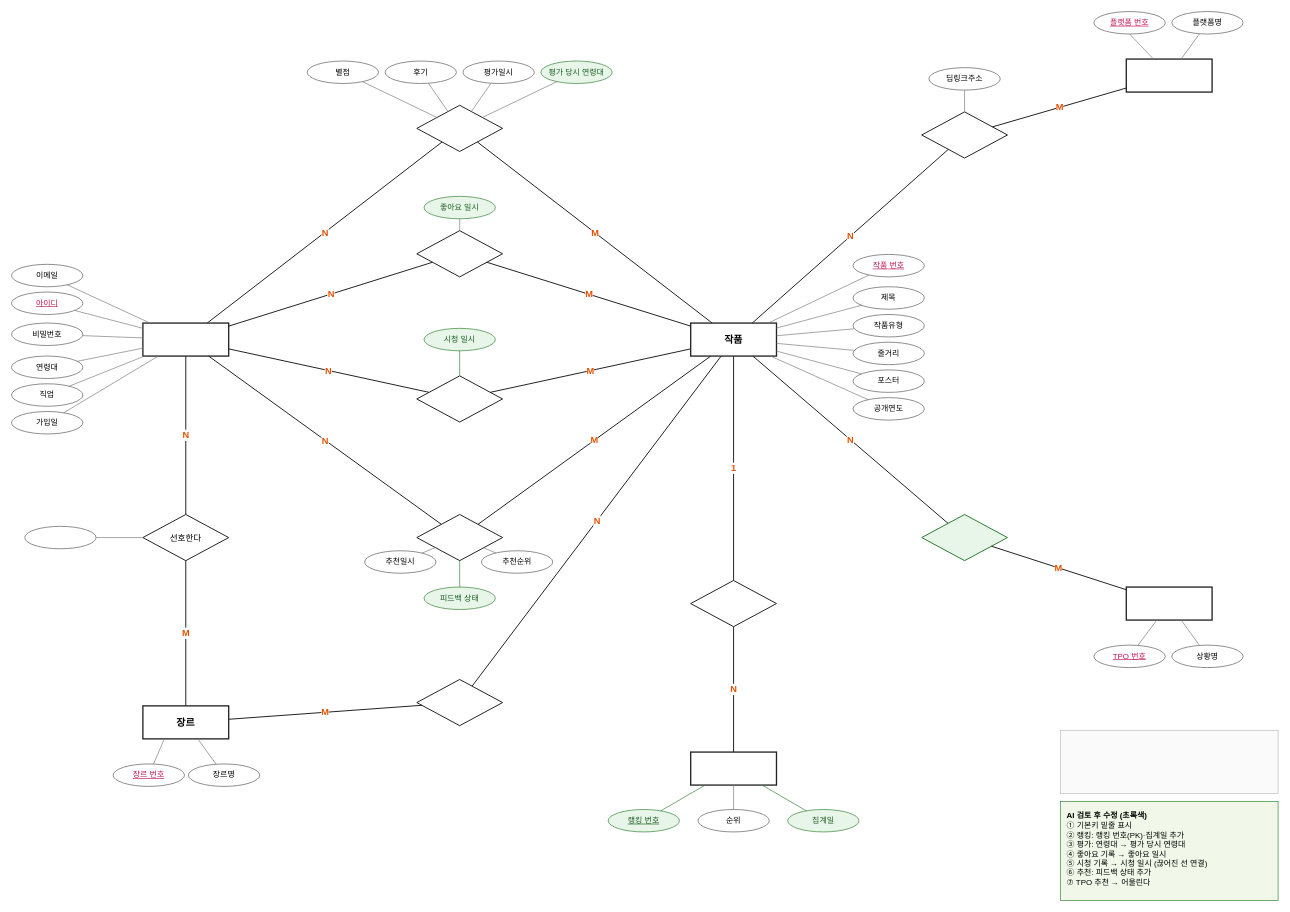
Image size: 1290x912. Some labels were removed from this diagram. Each missing label, with the centre of its shape:
"AI에게 추천받는다" belongs at pixel 459 537.
"OTT" belongs at pixel 1168 75.
"TPO" belongs at pixel 1168 603.
"랭킹" belongs at pixel 733 768.
"속한다" belongs at pixel 459 702.
"시청한다" belongs at pixel 459 398.
"어울린다" belongs at pixel 964 537.
"제공된다" belongs at pixel 964 134.
"좋아요" belongs at pixel 459 253.
"집계된다" belongs at pixel 733 603.
"취향구분" belongs at pixel 60 537.
"평가한다" belongs at pixel 459 128.
"표기법 □ 엔터티 · ○ 속성 · ◇ 관계 밑줄 = 기본키(PK) 1 / N / M = 관계 수 (N:M은 나중에 연결 테이블로 분리)" belongs at pixel 1169 762.
"회원" belongs at pixel 185 339.
